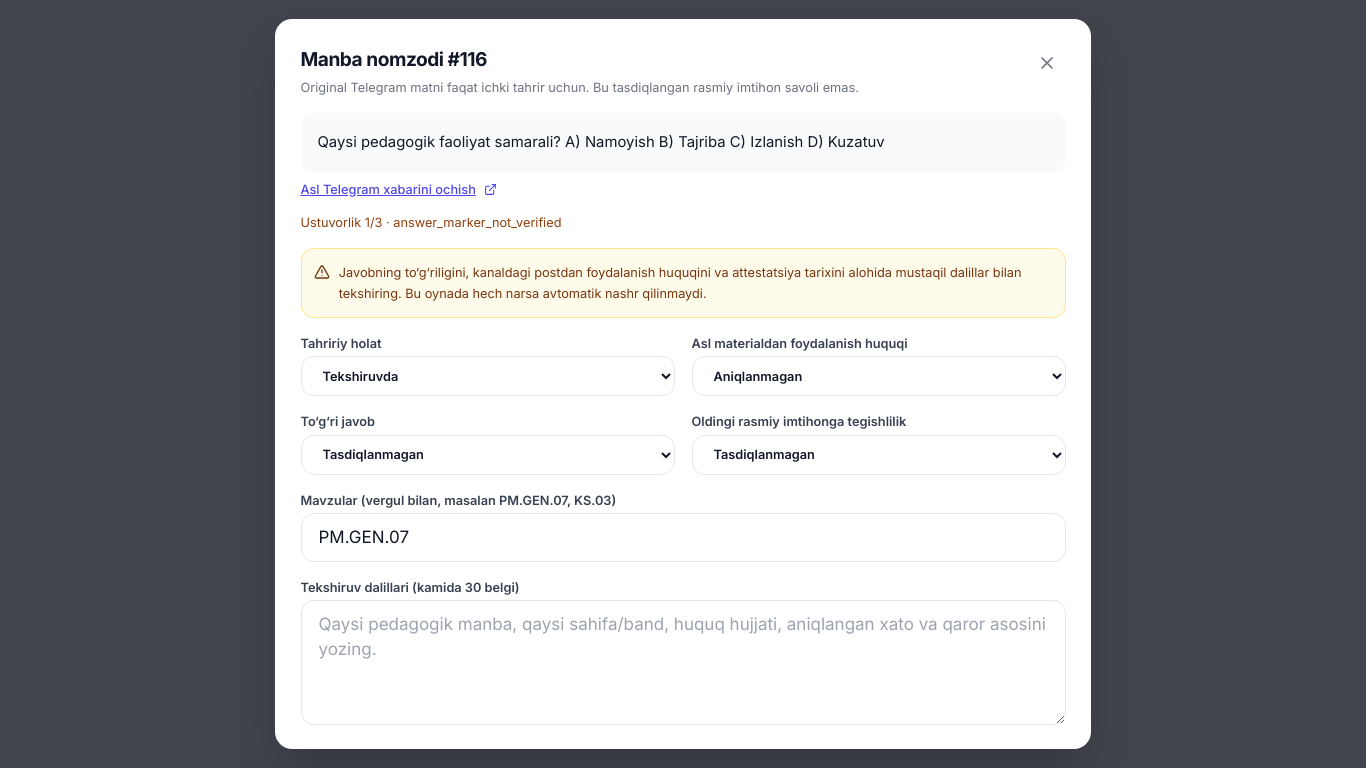
it: Private Telegram candidate human-review modal › keeps verified disabled without independent key and reuse rights
Select "To‘liq tekshirilgan (faqat admin)" in the dropdown labelled "Tahririy holat" at [488, 376], box [300,356,674,396]
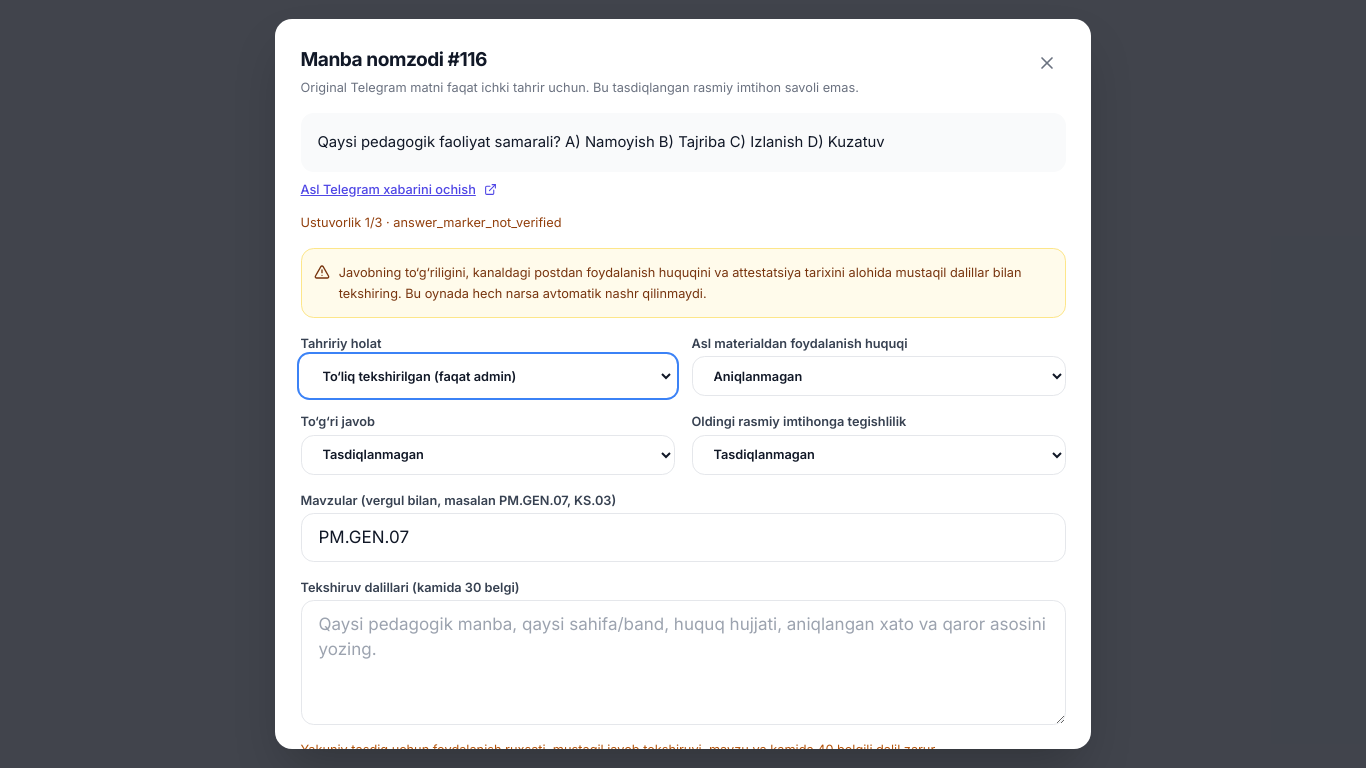
Type "The teaching method was studied but the channel reuse permission remains unknown." into the text box labelled "Tekshiruv dalillari (kamida 30 belgi)" at [683, 663], box [300,600,1066,726]
(page scrolled)
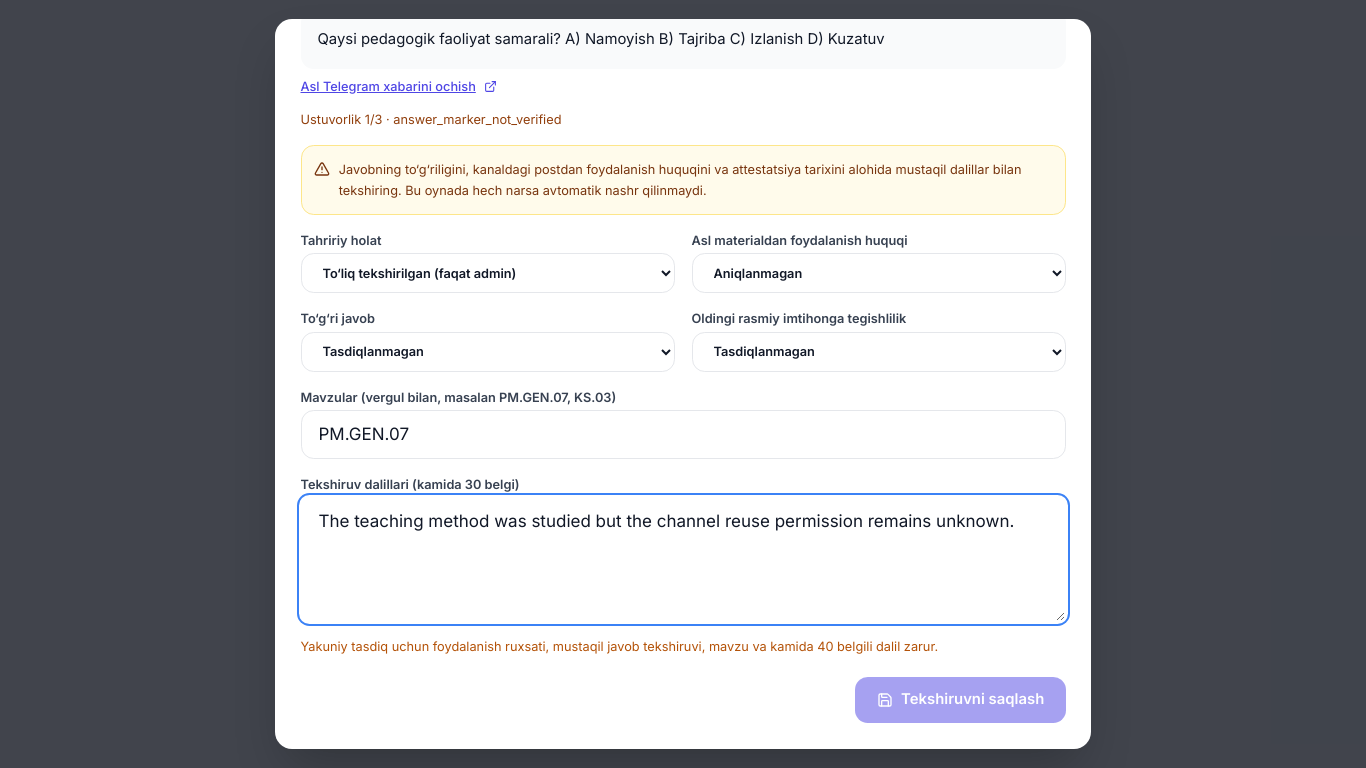
Check: the button "Tekshiruvni saqlash" is disabled, box [855,677,1066,724]
